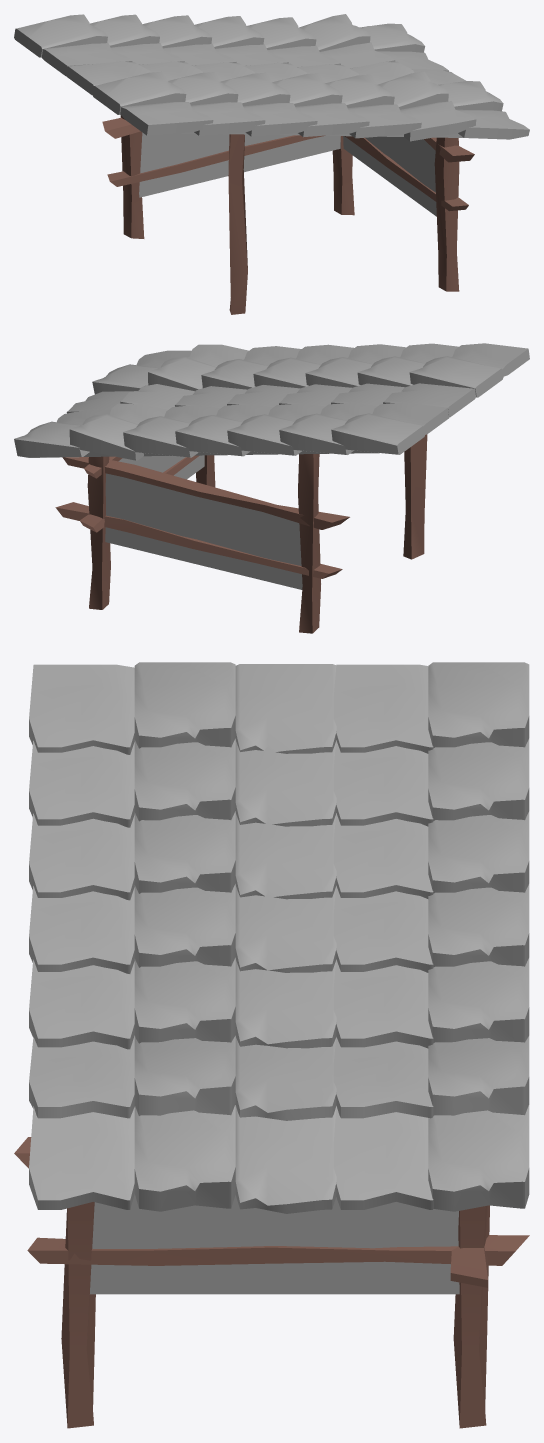
3 renders of one model, top to bottom at view 1: azimuth 30°, elevation 25°; view 2: azimuth 150°, elevation 25°; view 3: azimuth 270°, elevation 25°, orthographic. The views are drawn at different scales.
Visible parts, largest first — view 1: SM_B02_Wall_01, SM_B02_Wall_02, SM_B02_Wood_54, SM_B02_Wood_53, SM_B01_Tile_309, SM_B01_Tile_311, SM_B01_Tile_307, SM_B02_Wood_05, SM_B01_Tile_336, SM_B02_Wood_07, SM_B01_Tile_331, SM_B01_Tile_326 (+33 smaller); view 2: SM_B02_Wall_01, SM_B02_Wood_06, SM_B02_Wood_05, SM_B02_Wood_07, SM_B01_Tile_311, SM_B02_Wood_50, SM_B02_Wood_54, SM_B01_Tile_309, SM_B01_Tile_332, SM_B01_Tile_327, SM_B01_Tile_322, SM_B01_Tile_312 (+33 smaller); view 3: SM_B02_Wall_02, SM_B01_Tile_367, SM_B01_Tile_368, SM_B01_Tile_369, SM_B01_Tile_370, SM_B01_Tile_307, SM_B01_Tile_308, SM_B01_Tile_371, SM_B01_Tile_309, SM_B01_Tile_311, SM_B01_Tile_310, SM_B02_Wood_51 (+28 smaller).
Boxes of the visible parts, <box> form: SM_B02_Wall_01: <box>139,132,340,197</box>; SM_B02_Wall_02: <box>343,136,436,216</box>; SM_B02_Wood_54: <box>228,134,247,314</box>; SM_B02_Wood_53: <box>434,137,459,291</box>; SM_B01_Tile_309: <box>92,71,186,114</box>; SM_B01_Tile_311: <box>14,14,107,57</box>; SM_B01_Tile_307: <box>120,102,213,135</box>; SM_B02_Wood_05: <box>120,115,144,238</box>; SM_B01_Tile_336: <box>400,101,476,141</box>; SM_B02_Wood_07: <box>107,135,325,186</box>; SM_B01_Tile_331: <box>348,104,421,138</box>; SM_B01_Tile_326: <box>295,103,369,137</box>; SM_B02_Wall_01: <box>105,473,302,589</box>; SM_B02_Wood_06: <box>62,457,349,529</box>; SM_B02_Wood_05: <box>298,454,320,633</box>; SM_B02_Wood_07: <box>55,502,342,578</box>; SM_B01_Tile_311: <box>331,413,425,454</box>; SM_B02_Wood_50: <box>87,456,110,609</box>; SM_B02_Wood_54: <box>403,434,427,559</box>; SM_B01_Tile_309: <box>409,356,503,397</box>; SM_B01_Tile_332: <box>69,414,143,460</box>; SM_B01_Tile_327: <box>123,416,198,457</box>; SM_B01_Tile_322: <box>175,415,249,456</box>; SM_B01_Tile_312: <box>279,413,353,454</box>; SM_B02_Wall_02: <box>90,1194,459,1294</box>; SM_B01_Tile_367: <box>134,1105,235,1211</box>; SM_B01_Tile_368: <box>428,1105,529,1211</box>; SM_B01_Tile_369: <box>29,1106,134,1209</box>; SM_B01_Tile_370: <box>235,1106,336,1213</box>; SM_B01_Tile_307: <box>29,664,134,754</box>; SM_B01_Tile_308: <box>235,664,336,753</box>; SM_B01_Tile_371: <box>333,1106,433,1209</box>; SM_B01_Tile_309: <box>134,662,235,748</box>; SM_B01_Tile_311: <box>428,662,529,748</box>; SM_B01_Tile_310: <box>333,664,433,753</box>; SM_B02_Wood_51: <box>27,1235,529,1265</box>.
Bounding box in the file's own units: 7.04 × 4.43 × 4.32.
